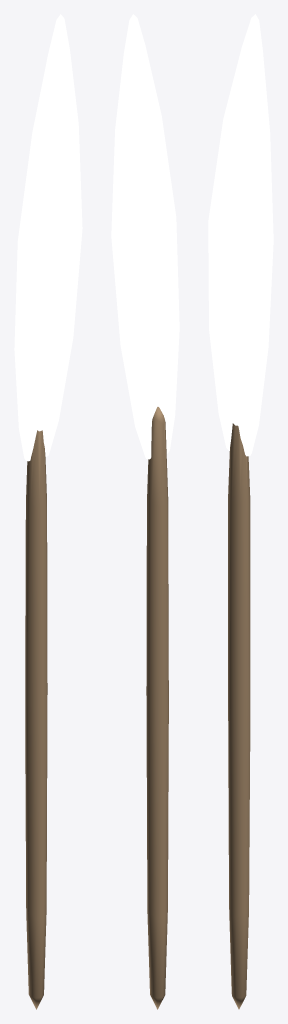
File: glaive.glb
3 views of the same model, side by side, from view 1: azimuth 30°, elevation 25°; view 2: azimuth 210°, elevation 25°; view 3: azimuth 330°, elevation 25° (orthographic).
Visible parts, largest first — view 1: Edge, Shaft; view 2: Edge, Shaft; view 3: Edge, Shaft.
Boxes of the visible parts, box(x1,y1,x2,y2) form: Edge: box(14, 14, 82, 461); Shaft: box(25, 430, 47, 1009); Edge: box(111, 14, 179, 459); Shaft: box(146, 407, 168, 1009); Edge: box(208, 14, 273, 456); Shaft: box(228, 423, 250, 1009).
Size of the model in its own units: 0.0974 by 1.4 by 0.0347.
